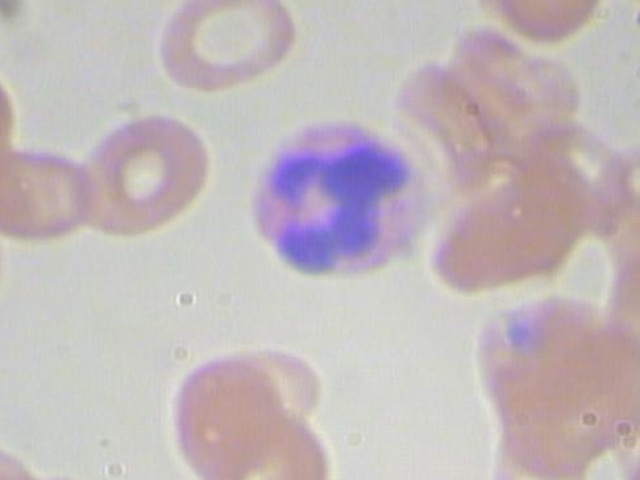RBC: (64, 108, 216, 236), (132, 0, 306, 102), (164, 352, 289, 480), (0, 146, 108, 248), (474, 0, 614, 46), (599, 236, 640, 368)
WBC: (233, 111, 469, 296)
